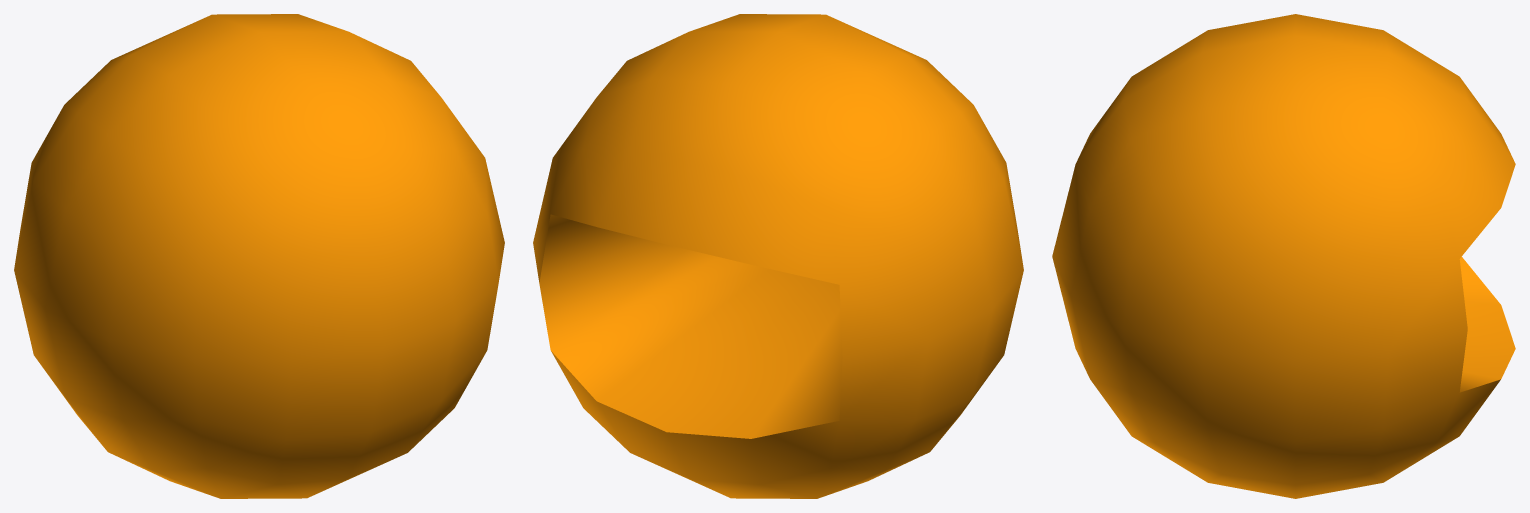
The model's file is goldie.obj.
The picture shows the model from 3 angles, left to right: view 1: azimuth 30°, elevation 25°; view 2: azimuth 150°, elevation 25°; view 3: azimuth 270°, elevation 25°; orthographic projection.
Parts seen in each view (by area): view 1: Cube; view 2: Cube; view 3: Cube.
Part boxes in pixels (x1,y1,x2,y2): Cube: [14, 14, 504, 498]; Cube: [533, 14, 1023, 498]; Cube: [1052, 14, 1515, 498].
Size of the model in its own units: 1 by 1 by 0.9564.
